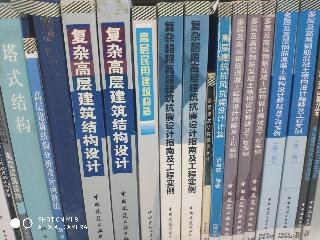book-spine: (0, 2, 56, 240), (32, 0, 87, 240), (61, 0, 114, 240), (252, 0, 300, 240), (273, 0, 320, 240), (97, 1, 140, 240), (24, 38, 66, 240), (177, 0, 209, 239), (230, 1, 262, 240), (243, 1, 275, 240), (220, 1, 246, 240), (157, 3, 183, 239), (134, 7, 160, 239), (289, 51, 320, 239), (207, 3, 231, 240), (202, 74, 214, 240), (302, 136, 320, 239)
